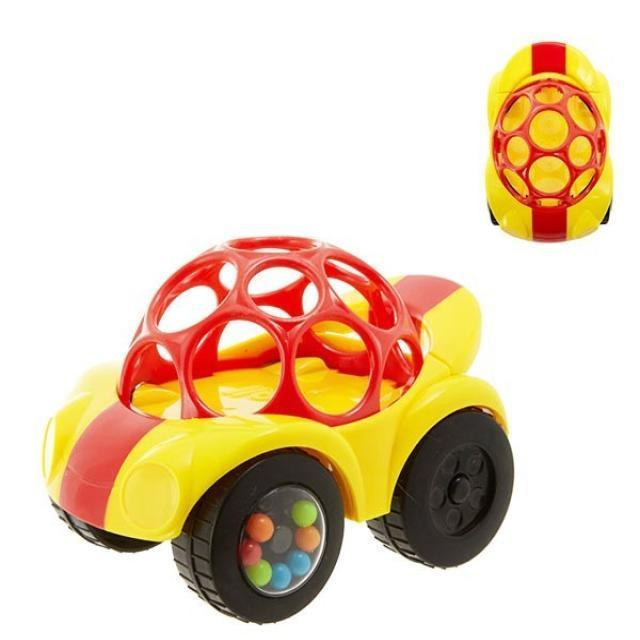hard-toy: (45, 237, 515, 623), (486, 44, 614, 242), (494, 80, 607, 209)
